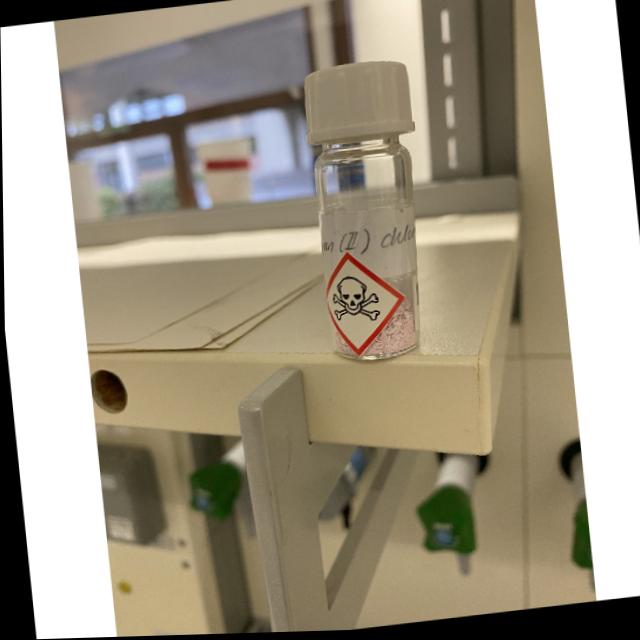acute toxicity: (330, 275, 379, 327)
